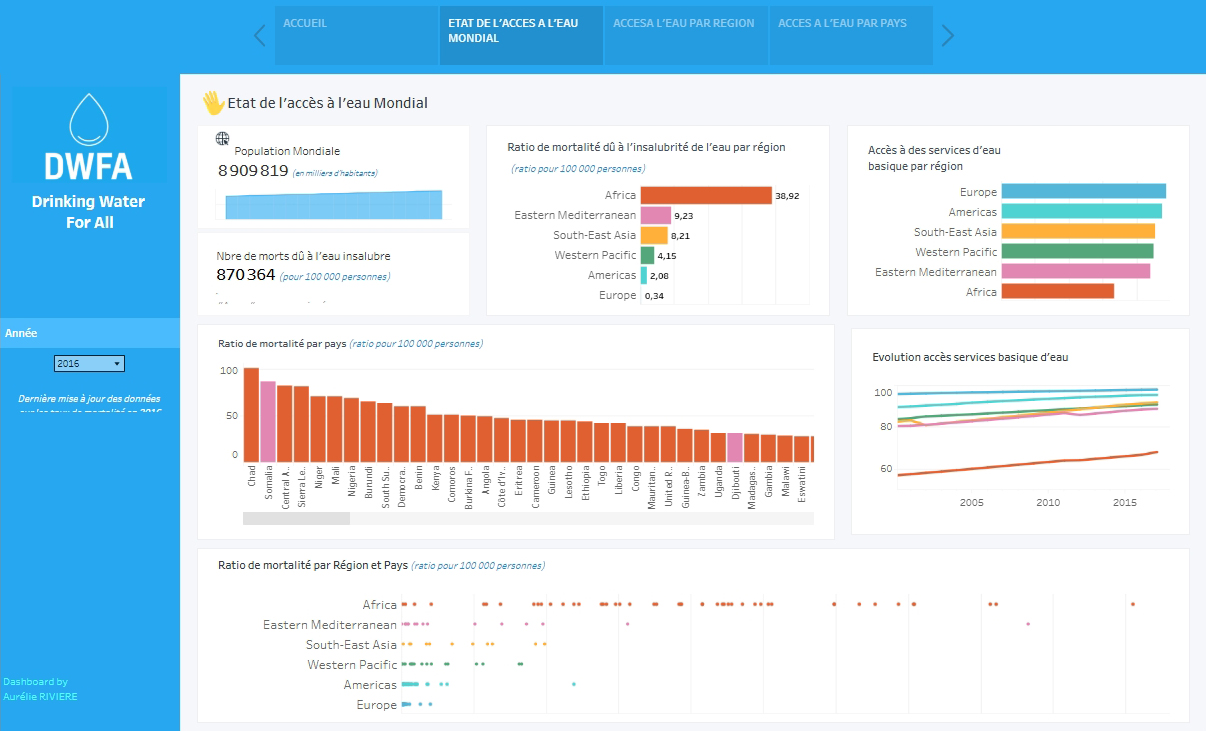

The page's visual inventory and layout, read from the dashboard file:
{"tool":"tableau","page":{"name":"VueMonde","canvas":[1650,1000],"ordinal":2},"visuals":[{"type":"image","param":"C:/Users/Aurelie 01Formatic/Desktop/logo.png","box":[0,10,250,128]},{"type":"image","param":"C:/Users/Aurelie 01Formatic/Dropbox/Formation Data Analyst/PROJET 10 - Faites un","box":[275,15,32,40]},{"type":"text","box":[307,15,1318,40]},{"type":"worksheet","title":"PopMond","mark":"Automatic","box":[292,79,285,65]},{"type":"text","box":[639,79,453.5,80]},{"type":"text","box":[1154.5,79,453.5,85]},{"type":"image","param":"C:/Users/Aurelie 01Formatic/Dropbox/Formation Data Analyst/PROJET 10 - Faites un","box":[291,84,28,29]},{"type":"text","box":[0,138,250,70]},{"type":"worksheet","title":"EvoPopMond","mark":"Area","rows":["Population"],"cols":["Year"],"box":[292,144,285,67]},{"type":"worksheet","title":"Mortalité/Région","mark":"Automatic","rows":["REGION (DISPLAY)"],"cols":["Mortality rate attributed to exposure to unsafe WASH service"],"box":[639,159,453.5,164]},{"type":"worksheet","title":"AccesEauRegion","mark":"Automatic","rows":["REGION (DISPLAY)"],"cols":["Population using at least basic drinking-water services (%)"],"box":[1154.5,164,453.5,152]},{"type":"worksheet","title":"FiltresRegion","mark":"Automatic","box":[0,208,250,85]},{"type":"worksheet","title":"NbreMortMond","mark":"Automatic","box":[286,243,297,84]},{"type":"text","box":[0,293,250,47]},{"type":"filter","title":"AccesEauRegion","param":"[federated.0qpxvex1ik4esz1cevycs06ncdh8].[yr:Year:ok]","box":[0,340,250,49]},{"type":"text","box":[0,389,250,44]},{"type":"text","box":[292,390,866,32]},{"type":"text","box":[1220,390,388,43]},{"type":"worksheet","title":"Mortalité/Pays","mark":"Automatic","rows":["Mortality rate attributed to exposure to unsafe WASH service"],"cols":["Country (MortalityRateAttributedToWater.csv)"],"box":[292,422,866,277]},{"type":"blank","box":[0,433,250,472]},{"type":"worksheet","title":"EvolAccesEau","mark":"Automatic","rows":["Population using at least basic drinking-water services (%)"],"cols":["Year (BasicAndSafelyManagedDrinkingWaterServices.csv)"],"box":[1220,433,388,256]},{"type":"text","box":[292,751,1316,30]},{"type":"blank","box":[292,781,1316,10]},{"type":"worksheet","title":"Mortalité/Pays2","mark":"Shape","rows":["REGION (DISPLAY)"],"cols":["Mortality rate attributed to exposure to unsafe WASH service"],"box":[292,791,1316,177]},{"type":"text","box":[0,905,250,63]}]}

Visuals, with their boxes in screenshot pixels (x1, y1, x2, y2), scaled from the page's 1650x1000 canvas onto the 1206x731 screenshot:
image: 0:7:183:101
image: 201:11:224:40
text: 224:11:1188:40
"PopMond" worksheet: 213:58:422:105
text: 467:58:799:116
text: 844:58:1175:120
image: 213:61:233:83
text: 0:101:183:152
"EvoPopMond" worksheet (Area marks): 213:105:422:154
"Mortalité/Région" worksheet: 467:116:799:236
"AccesEauRegion" worksheet: 844:120:1175:231
"FiltresRegion" worksheet: 0:152:183:214
"NbreMortMond" worksheet: 209:178:426:239
text: 0:214:183:249
"AccesEauRegion" filter: 0:249:183:284
text: 0:284:183:317
text: 213:285:846:308
text: 892:285:1175:317
"Mortalité/Pays" worksheet: 213:308:846:511
blank: 0:317:183:662
"EvolAccesEau" worksheet: 892:317:1175:504
text: 213:549:1175:571
blank: 213:571:1175:578
"Mortalité/Pays2" worksheet (Shape marks): 213:578:1175:708
text: 0:662:183:708
